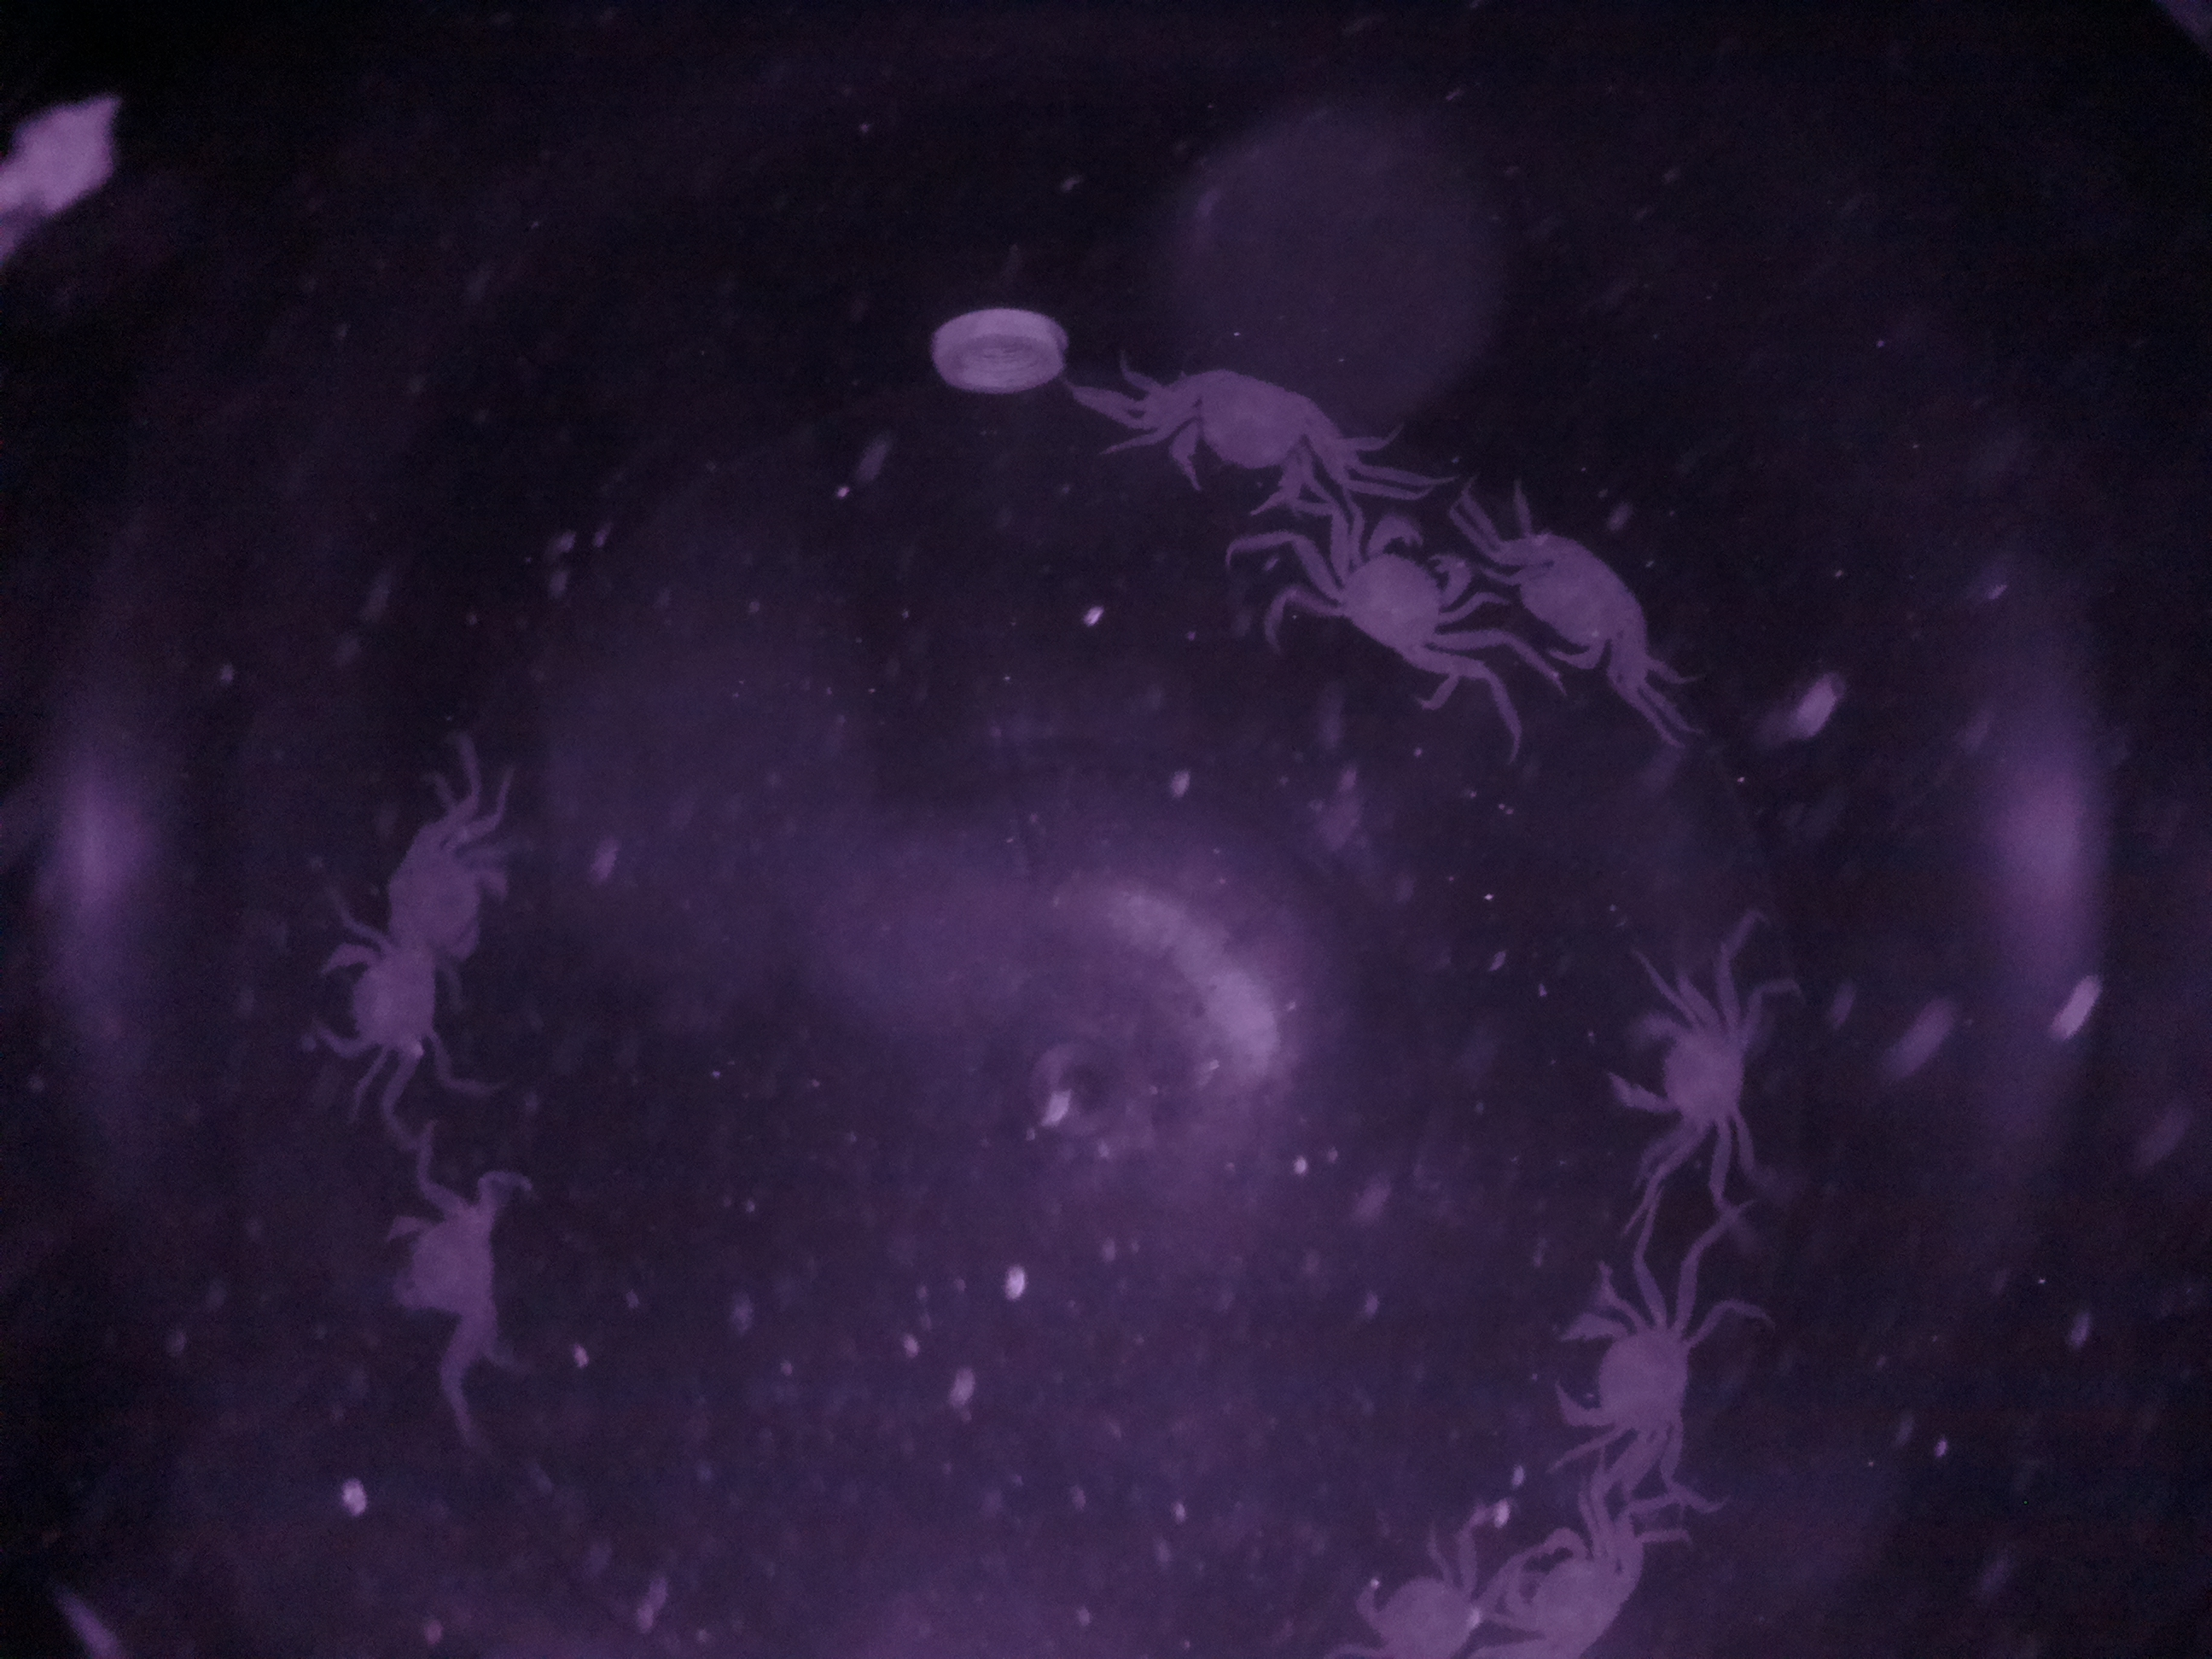Crab: (1137, 359, 1371, 523), (1489, 488, 1663, 694), (1540, 1279, 1721, 1473), (1294, 502, 1472, 688)
